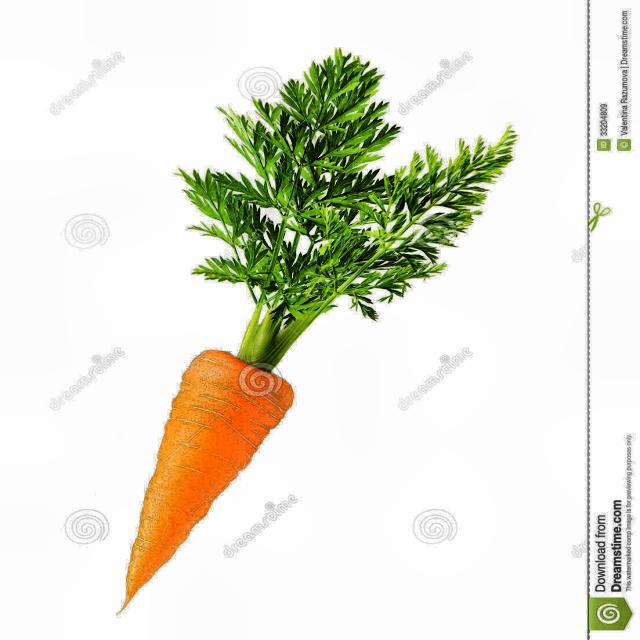carrot: (92, 67, 506, 610)
